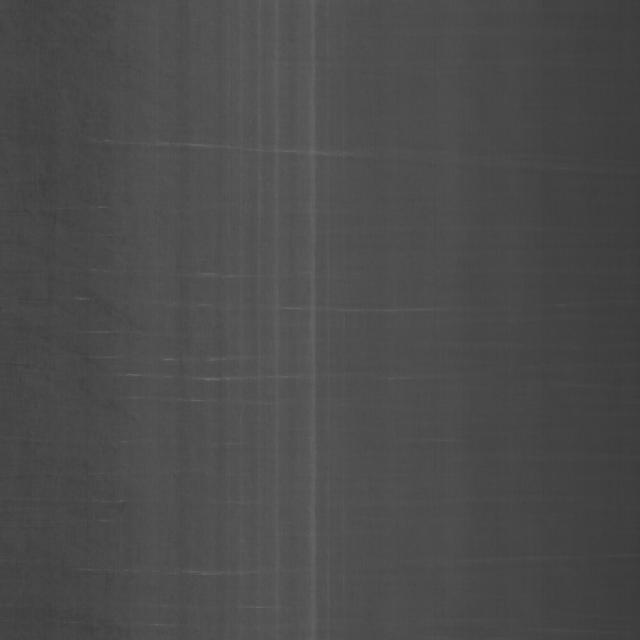punching_hole: (151, 34, 369, 635)
